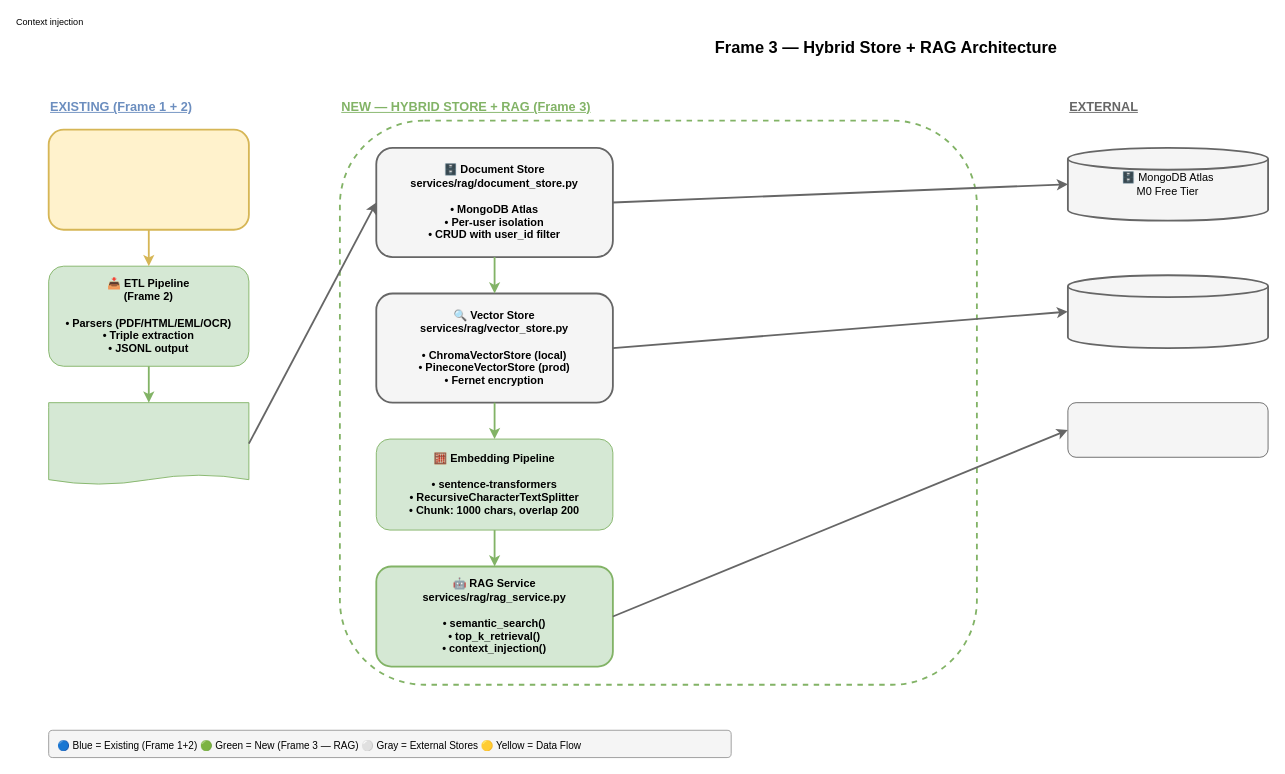
Image size: 1285x774. Some labels were removed from this diagram. Here are the shapes that lost their labels. From the top down, the centre of each, then its label:
At (148,179): "⚡ FastAPI Backend (Frame 1) • JWT Auth • Config Layer • LLM Provider".
At (1168,311): "🔍 Chroma (local) Pinecone (prod)".
At (148,443): "📁 JSONL Triples data/triples/{user_id}/ {doc_id}.jsonl".
At (1167,429): "☁️ AWS Bedrock (LLM Cloud)".
